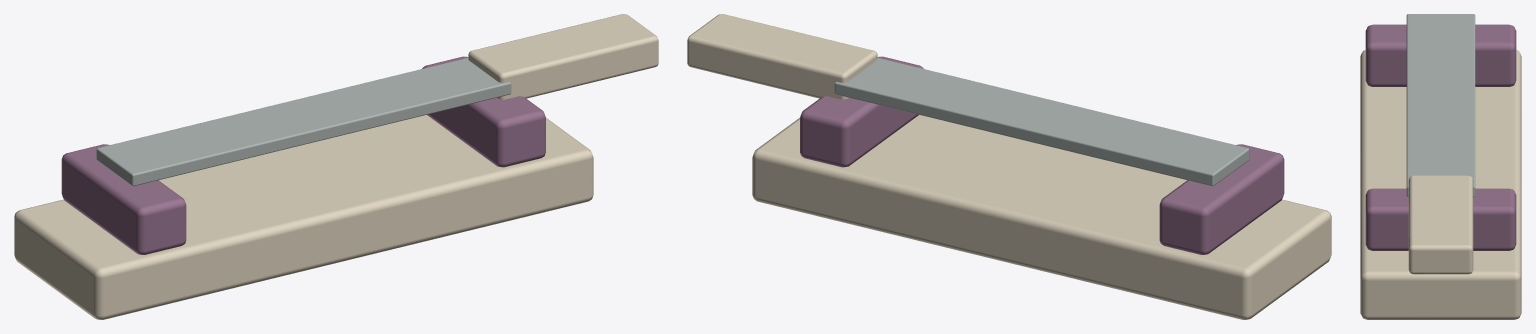
File: museum-conservation-and-art-restoration-museum-conserv-a1b0b85f__31895.glb
3 views of the same model, side by side, from view 1: azimuth 30°, elevation 25°; view 2: azimuth 150°, elevation 25°; view 3: azimuth 270°, elevation 25° (orthographic). The views are drawn at different scales.
Visible parts, largest first — view 1: museum-conservation-and-art-restoration-gilding-knife-rest; view 2: museum-conservation-and-art-restoration-gilding-knife-rest; view 3: museum-conservation-and-art-restoration-gilding-knife-rest.
Boxes of the visible parts, x1,y1,x2,y2 form: museum-conservation-and-art-restoration-gilding-knife-rest: [14, 14, 658, 319]; museum-conservation-and-art-restoration-gilding-knife-rest: [687, 14, 1331, 319]; museum-conservation-and-art-restoration-gilding-knife-rest: [1360, 14, 1521, 319].
Size of the model in its own units: 0.295 by 0.06 by 0.075.
